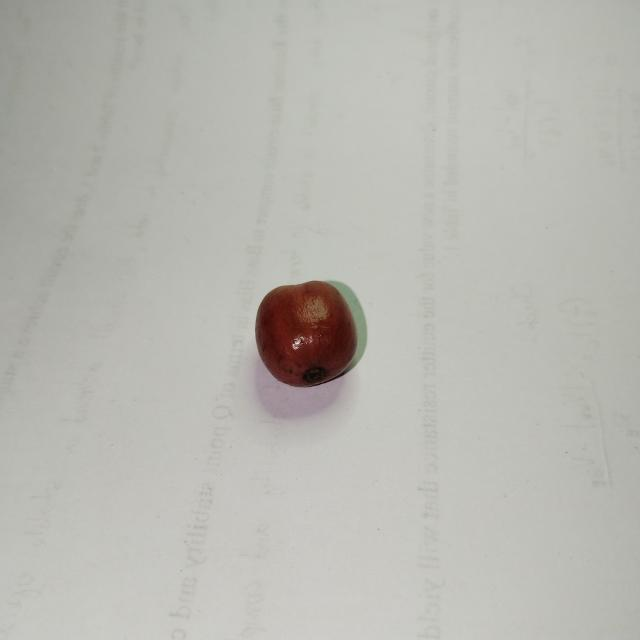Infectado: (256, 281, 357, 387)
